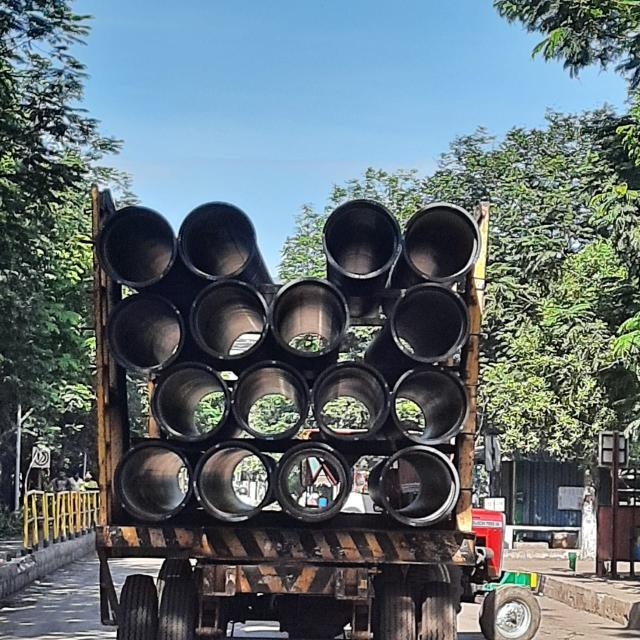pipe: (170, 188, 260, 302), (254, 273, 361, 366), (380, 280, 489, 370), (373, 437, 464, 539), (88, 194, 175, 294), (101, 439, 198, 526), (185, 274, 269, 369), (196, 422, 272, 526), (303, 356, 397, 440), (399, 193, 484, 283), (272, 439, 355, 529), (150, 359, 233, 447), (108, 279, 180, 380), (320, 189, 398, 282), (224, 354, 305, 438), (396, 354, 470, 444)
